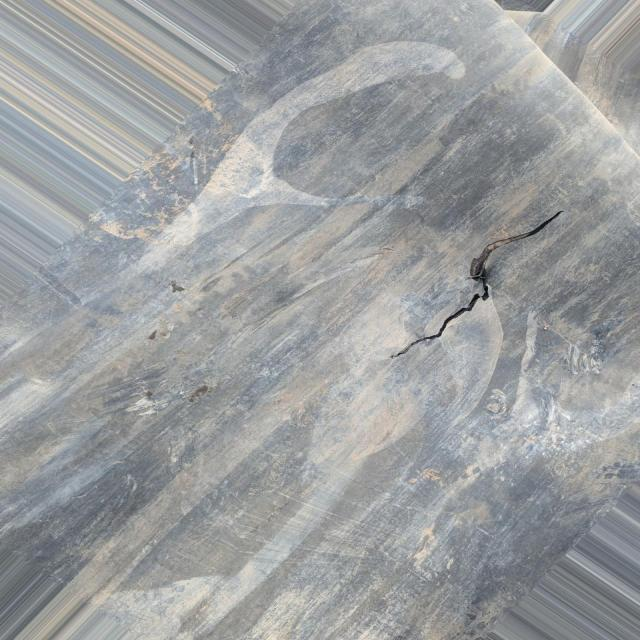Tear: (390, 206, 572, 365)
